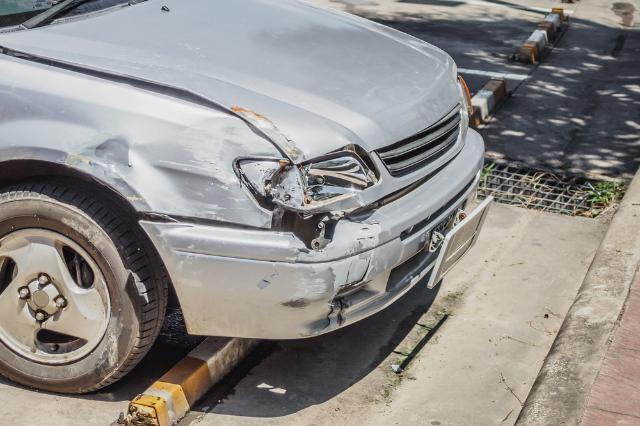crack: (320, 257, 372, 332)
dent: (77, 118, 283, 221)
dislocated part: (141, 129, 486, 337)
lamp broken: (231, 155, 370, 205)
scratch: (282, 238, 370, 314), (231, 106, 308, 164)
